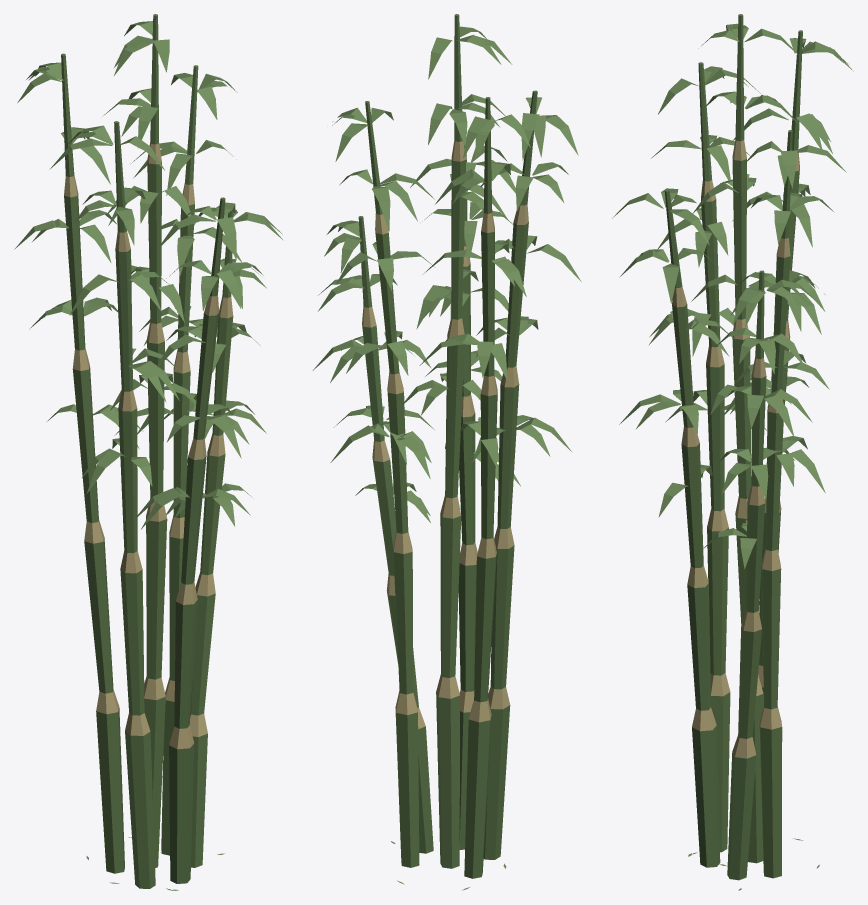
File: bamboo_cluster.glb
The picture shows the model from 3 angles, left to right: view 1: azimuth 30°, elevation 25°; view 2: azimuth 150°, elevation 25°; view 3: azimuth 270°, elevation 25°; orthographic projection.
Parts seen in each view (by area): view 1: bamboo_cluster; view 2: bamboo_cluster; view 3: bamboo_cluster.
Boxes of the visible parts, x1,y1,x2,y2 form: bamboo_cluster: [14, 14, 283, 890]; bamboo_cluster: [312, 14, 581, 890]; bamboo_cluster: [612, 14, 853, 890].
Bounding box in the file's own units: 1.65 × 5.5 × 1.44.
